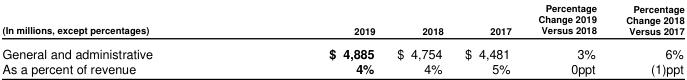table: (1, 1, 683, 77)
table column: (1, 1, 240, 77), (240, 1, 385, 77), (524, 1, 610, 77), (610, 1, 683, 77), (453, 1, 524, 77), (385, 1, 453, 77)
table column header: (1, 1, 683, 40)
table row: (1, 1, 683, 40), (1, 40, 683, 60), (1, 60, 683, 77)
